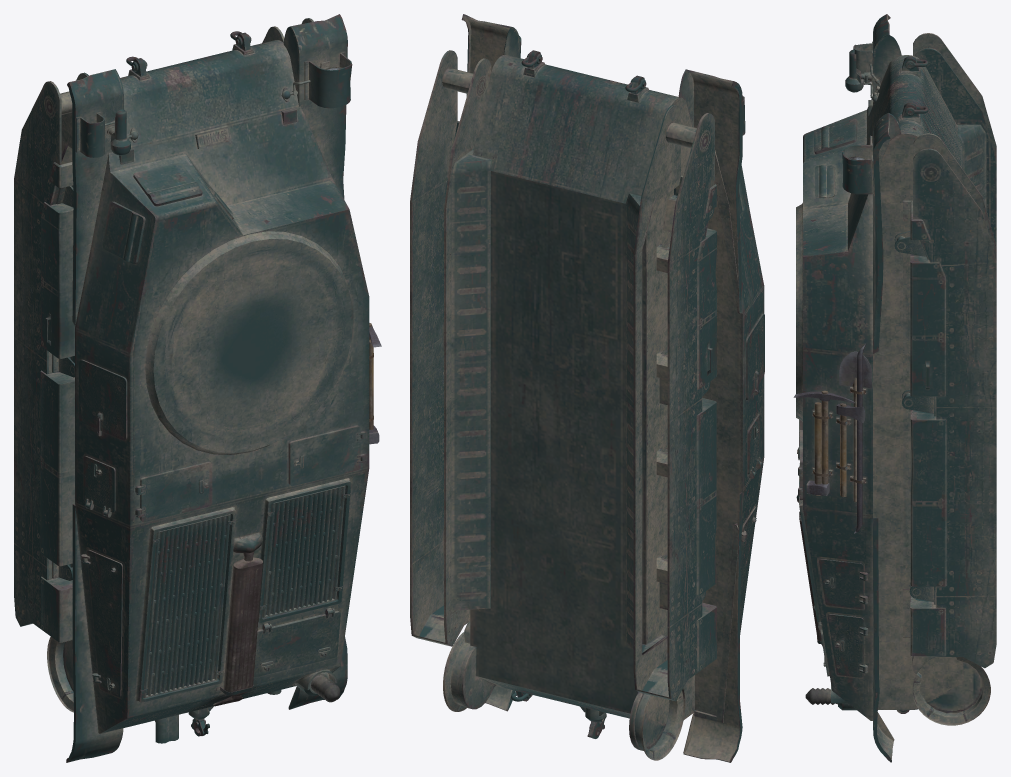
The model's file is Hull.glb.
3 views of the same model, side by side, from view 1: azimuth 30°, elevation 25°; view 2: azimuth 150°, elevation 25°; view 3: azimuth 270°, elevation 25° (orthographic). The views are drawn at different scales.
Visible parts, largest first — view 1: set_0_group_0; view 2: set_0_group_0; view 3: set_0_group_0.
Part boxes in pixels (x1=…): set_0_group_0: x1=14, y1=14, x2=381, y2=762; set_0_group_0: x1=410, y1=14, x2=764, y2=762; set_0_group_0: x1=793, y1=14, x2=996, y2=762.
Size of the model in its own units: 2.35 by 5.52 by 1.61.
1 material, 1 textured.
